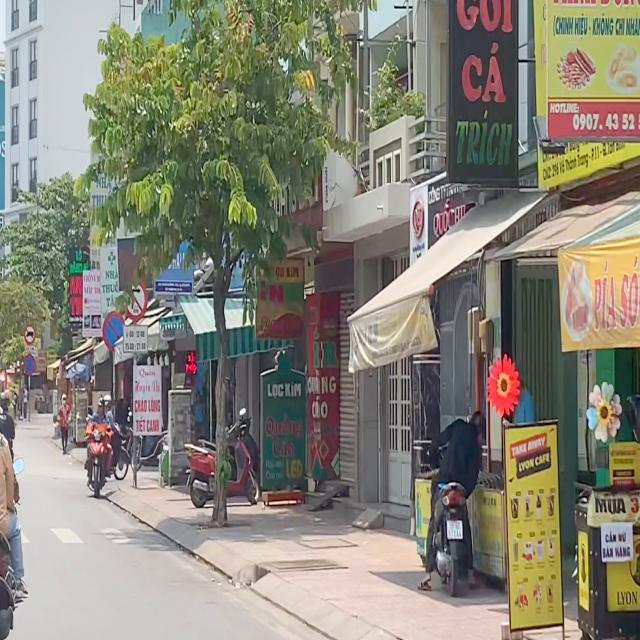Cam con lai: (24, 324, 36, 346)
Cam do: (102, 309, 126, 353), (24, 350, 36, 376)
Cam re phai: (124, 275, 149, 323)
